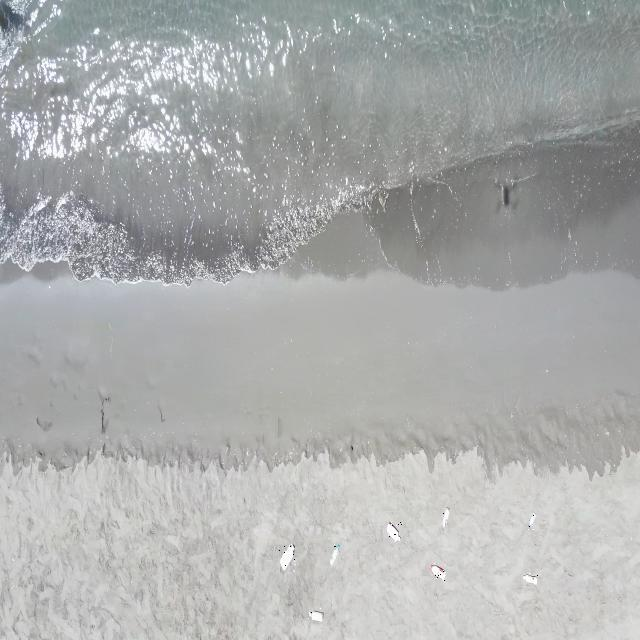Garbage: (280, 544, 292, 569), (430, 564, 444, 580), (329, 544, 340, 564), (387, 522, 399, 540), (308, 609, 323, 620), (523, 573, 536, 584), (527, 513, 535, 527), (443, 507, 448, 528)
